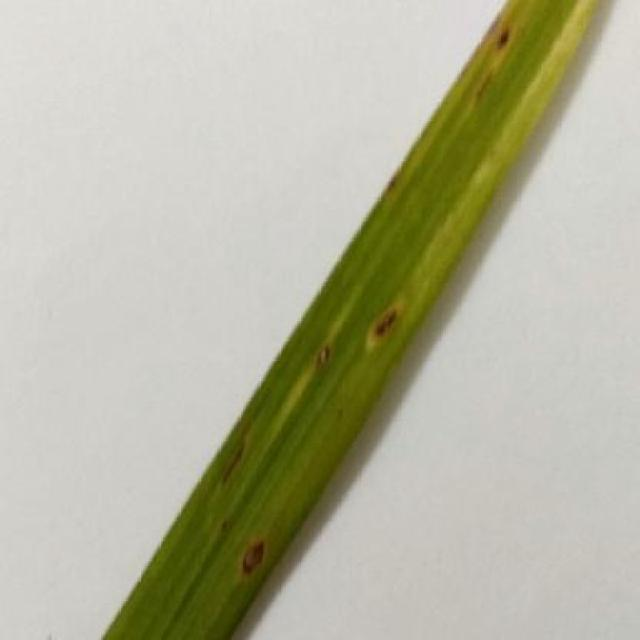Bacterial_Leaf_Blight: (234, 522, 272, 584), (365, 292, 401, 352), (481, 18, 513, 54), (309, 339, 337, 372)
